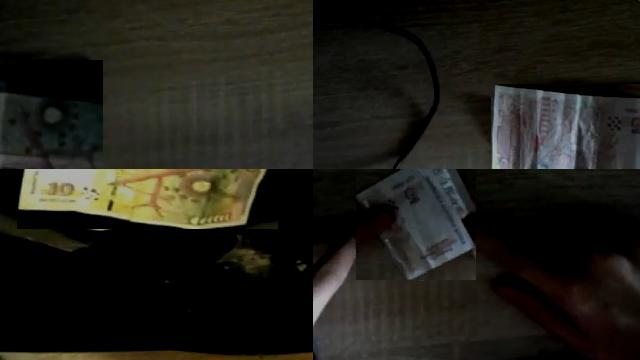10leva: (17, 169, 268, 229), (0, 61, 103, 169)
5leva: (356, 169, 476, 280), (491, 84, 640, 169)
